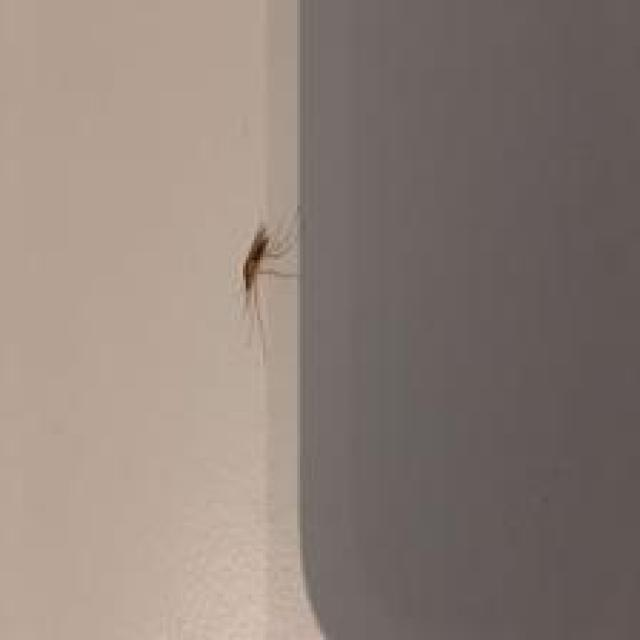Culex: (237, 206, 300, 363)
